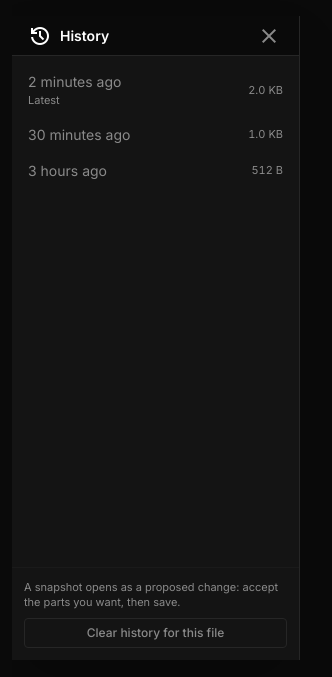
Test: HistoryPanel › clears the history only after a confirmation
Expected: the text "2 minutes ago" is shown, [28, 72, 122, 92]
Step 1. Click the button "Clear history for this file" → click(156, 633), box [24, 618, 287, 648]
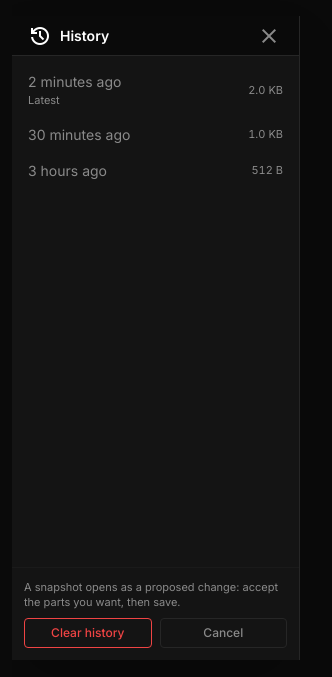
// Backing out leaves the snapshots alone.
Step 2. Click the button "Cancel" → click(223, 633), box [160, 618, 287, 648]
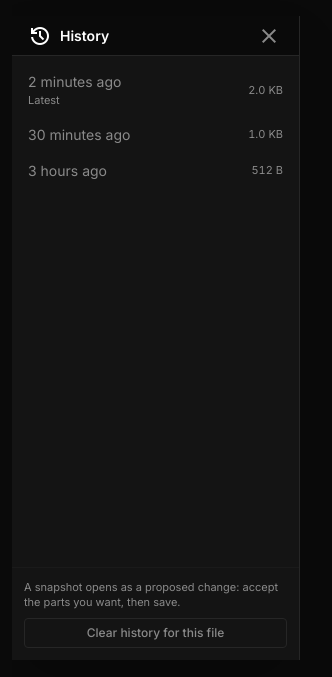
Expected: the text "2 minutes ago" is shown, [28, 72, 122, 92]
Step 3. Click the button "Clear history for this file" → click(156, 633), box [24, 618, 287, 648]
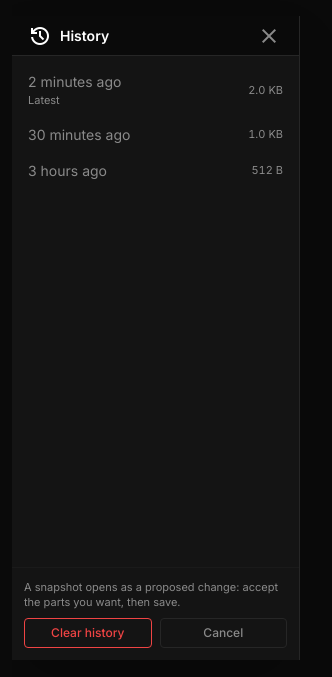
Step 4. Click the button "Clear history" → click(88, 633), box [24, 618, 152, 648]
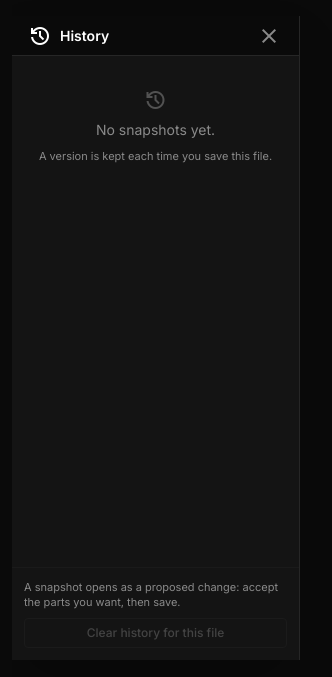
Expected: the text "No snapshots yet." is shown, [96, 120, 215, 140]
